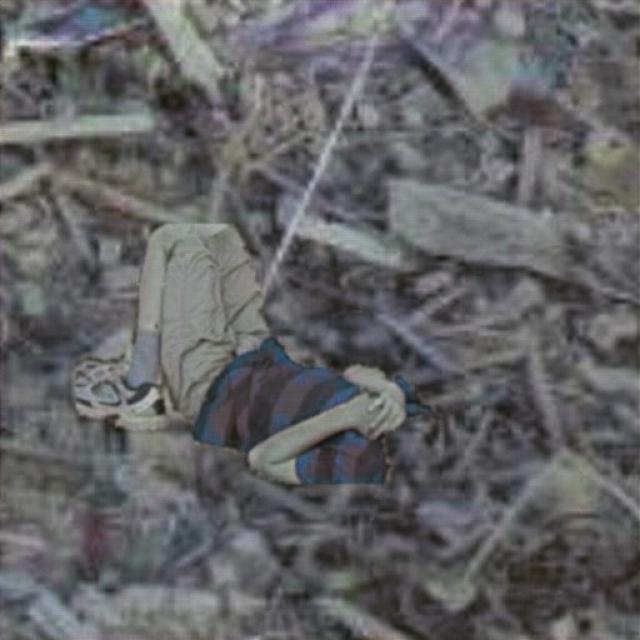Person in Rubble: (76, 223, 442, 482)
